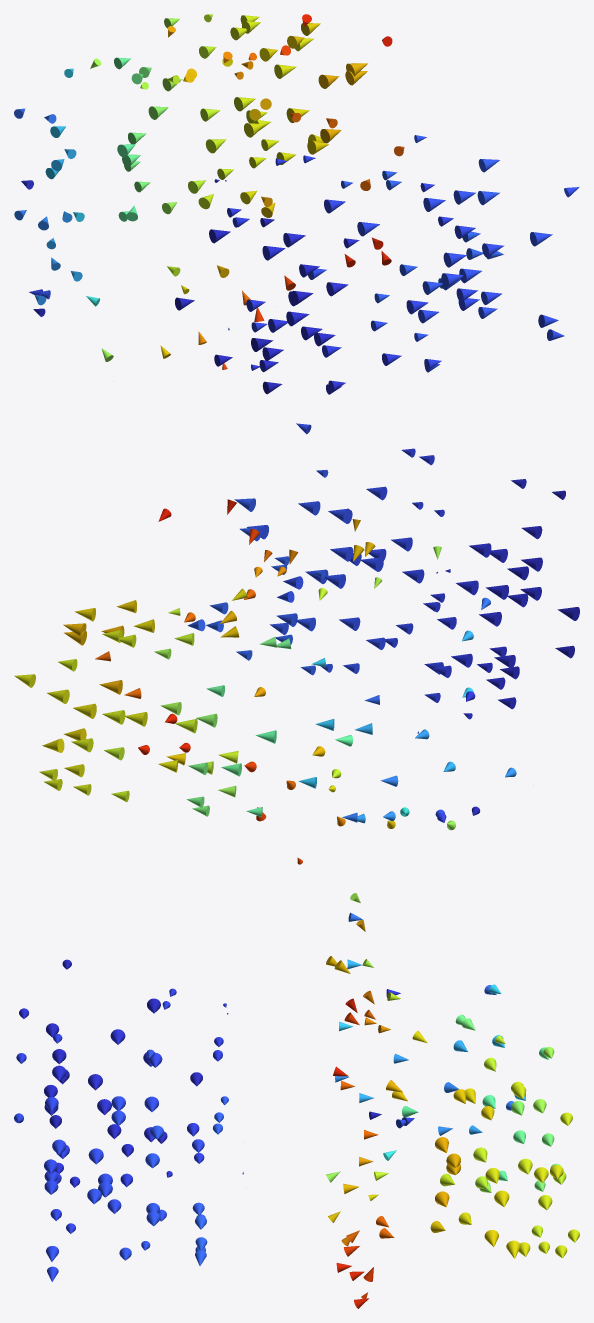
Rendered from LineasCorrienteN2-H2O_mh2-2.70_V-0.7.glb.
The picture shows the model from 3 angles, top to bottom: view 1: azimuth 30°, elevation 25°; view 2: azimuth 150°, elevation 25°; view 3: azimuth 270°, elevation 25°; orthographic projection.
Bounding box in the file's own units: 0.000963 × 0.000828 × 0.00121.
2 materials, 2 textured.
